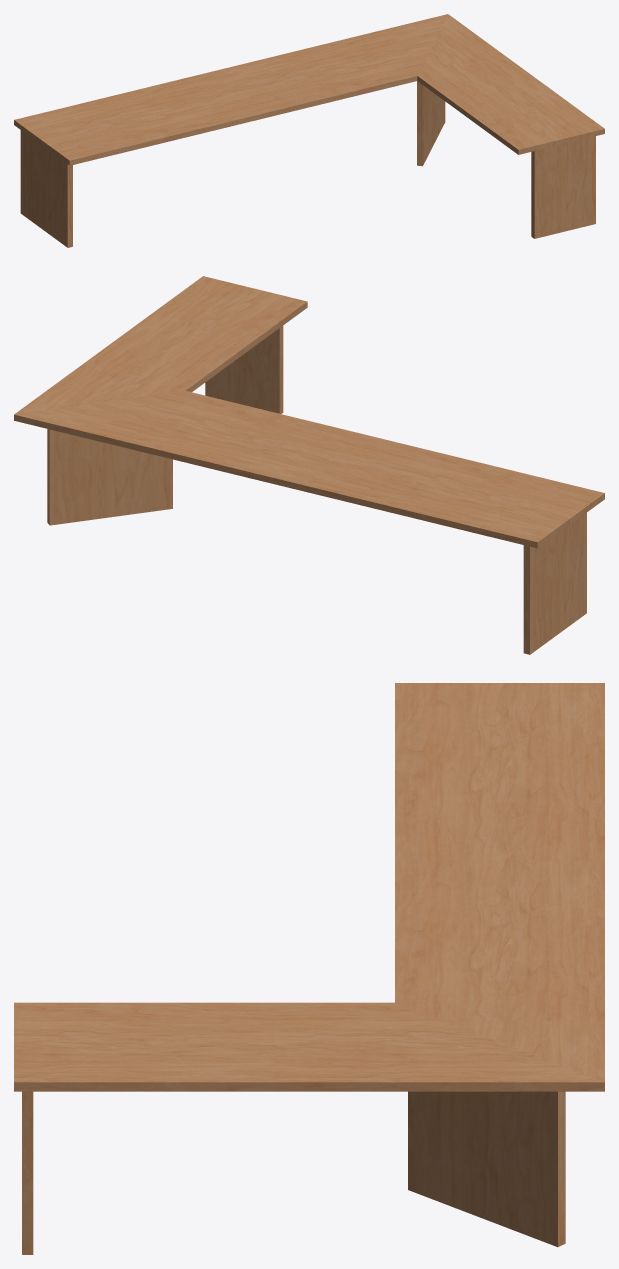
The model's file is Escritorio.fbx.
The picture shows the model from 3 angles, top to bottom: view 1: azimuth 30°, elevation 25°; view 2: azimuth 150°, elevation 25°; view 3: azimuth 270°, elevation 25°; orthographic projection. The views are drawn at different scales.
Parts seen in each view (by area): view 1: pCube6; view 2: pCube6; view 3: pCube6.
Boxes of the visible parts, x1,y1,x2,y2 form: pCube6: (14,14,604,247); pCube6: (14,276,604,654); pCube6: (14,683,604,1254).
Size of the model in its own units: 360 by 75.25 by 225.
